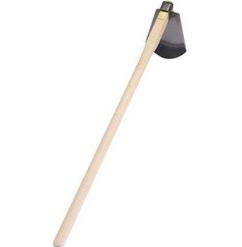HOUE: (50, 0, 189, 247)
